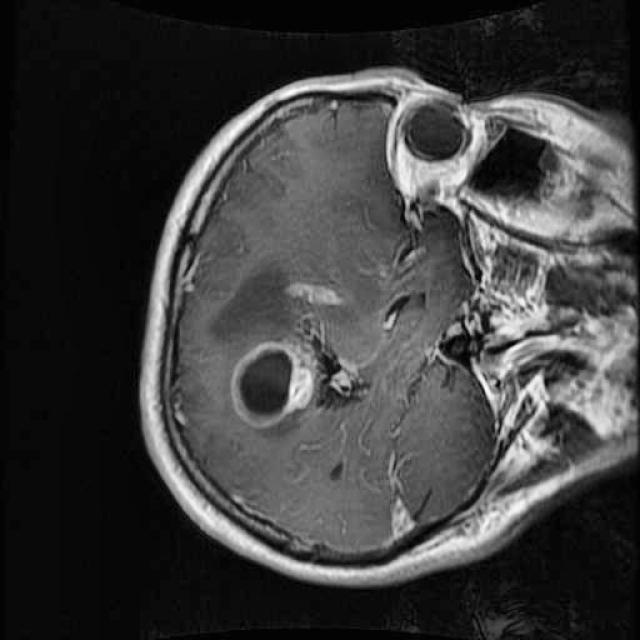Non-Tumor: (211, 251, 379, 441)
